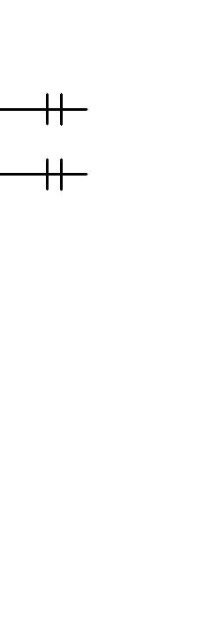115_buffer: (46, 93, 63, 126), (46, 158, 63, 191)
